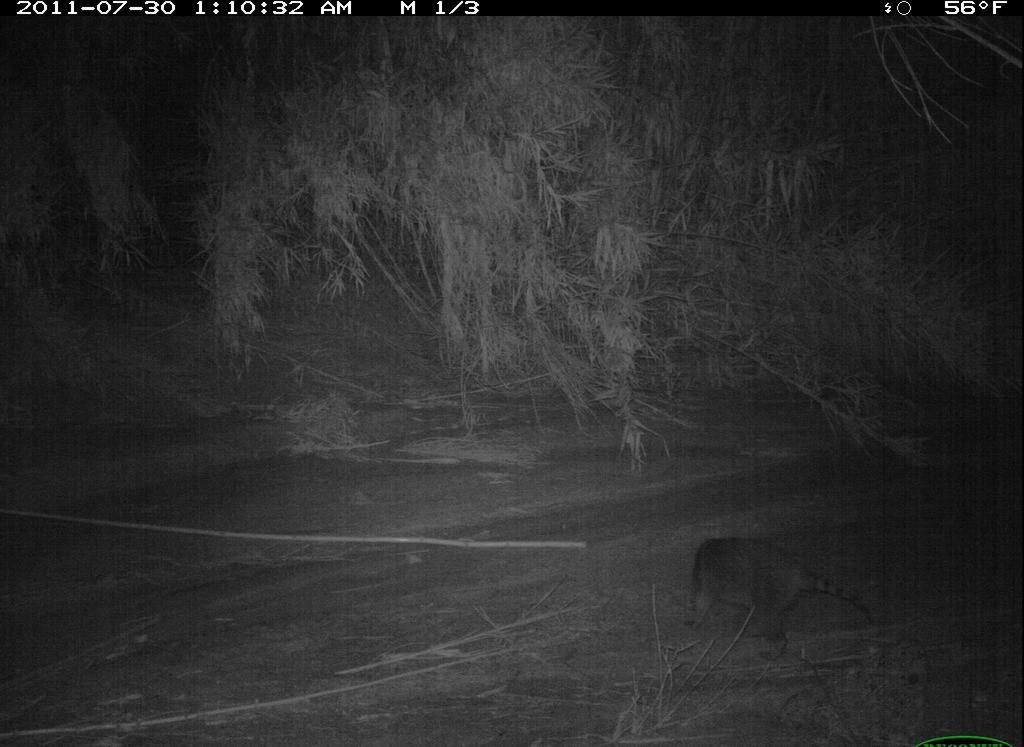raccoon: (652, 488, 886, 673)
